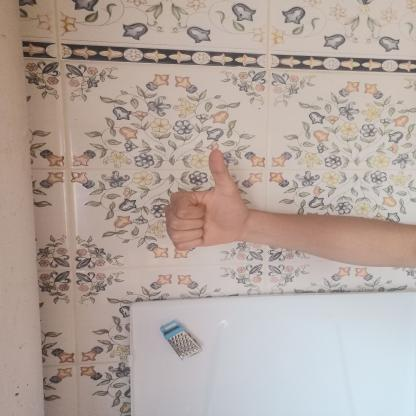ALIF: (158, 142, 255, 259)
